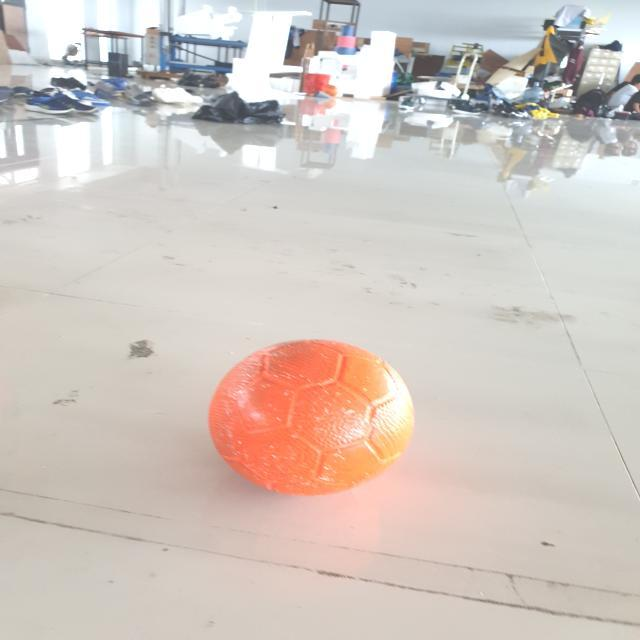bola: (206, 336, 416, 507)
